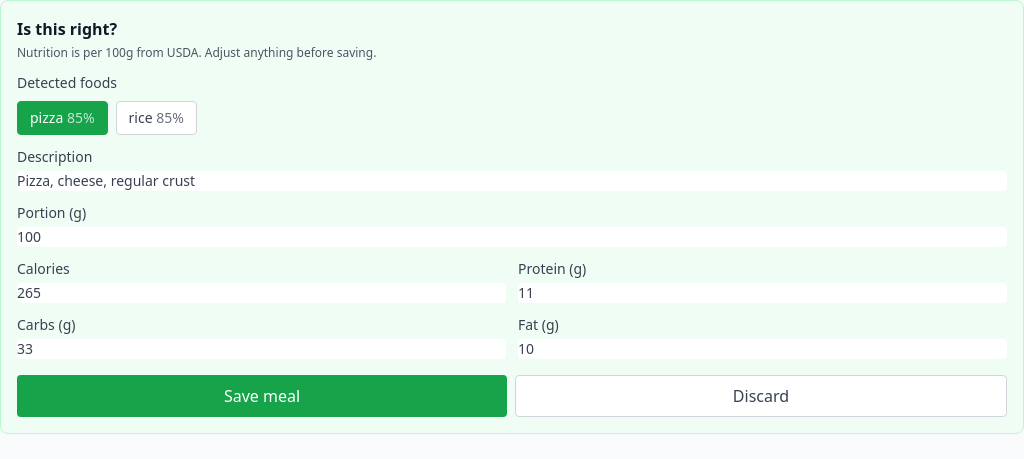
MealReview › updates the note when the user switches to a food with a different basis
Check: the text with test id "basis-note" shows "per 100g from USDA", box [17,44,376,61]
Click the button "rice 85%" at {"x": 156, "y": 118}, box [116,101,197,135]
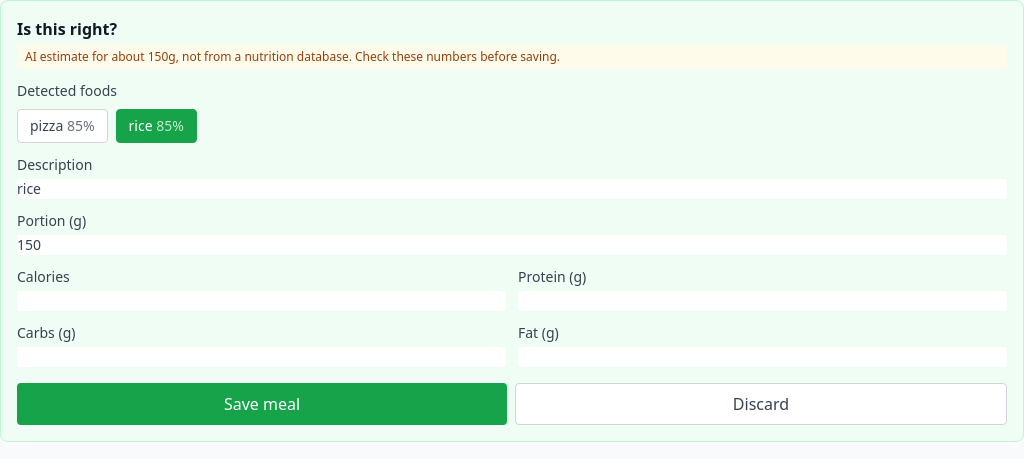
Check: the text with test id "basis-note" shows "AI estimate for about 150g", box [25,48,560,65]
